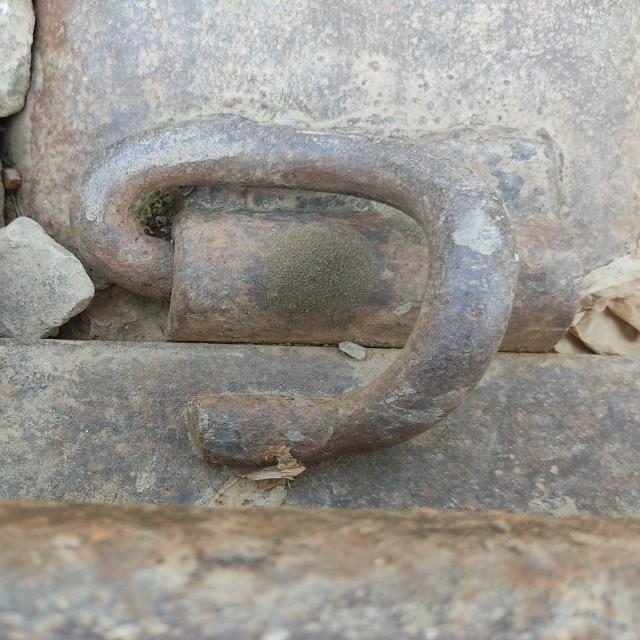track_bolt: (72, 111, 522, 472)
